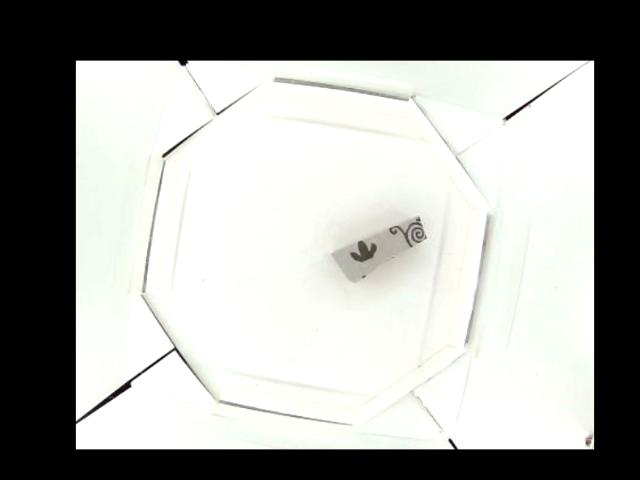China: (330, 214, 426, 281)
